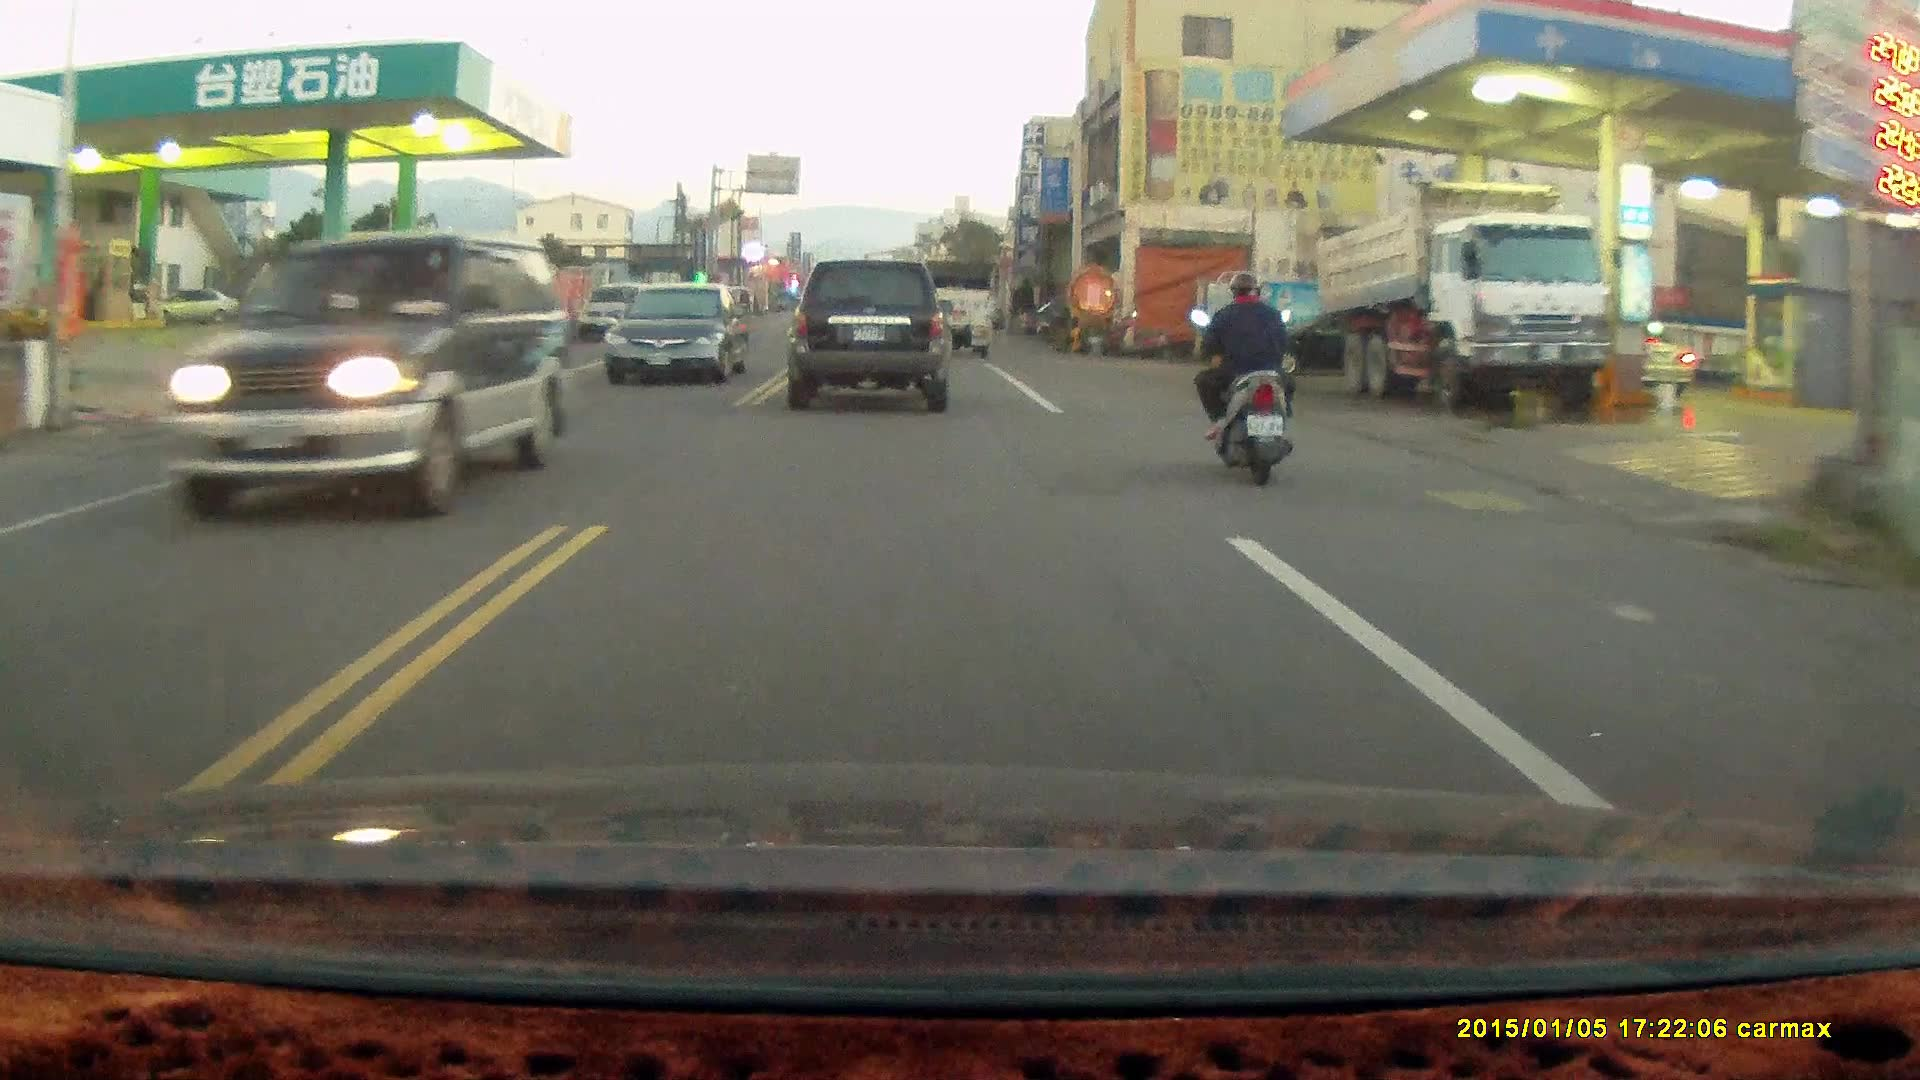rider: (1188, 265, 1296, 485)
vehicle: (154, 235, 579, 525), (1315, 179, 1612, 409), (793, 257, 954, 413), (604, 282, 754, 390), (900, 251, 993, 349)
